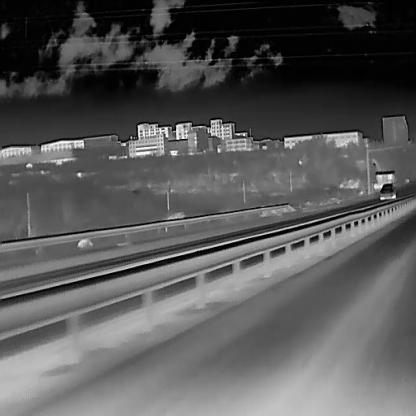car: (379, 182, 396, 200)
